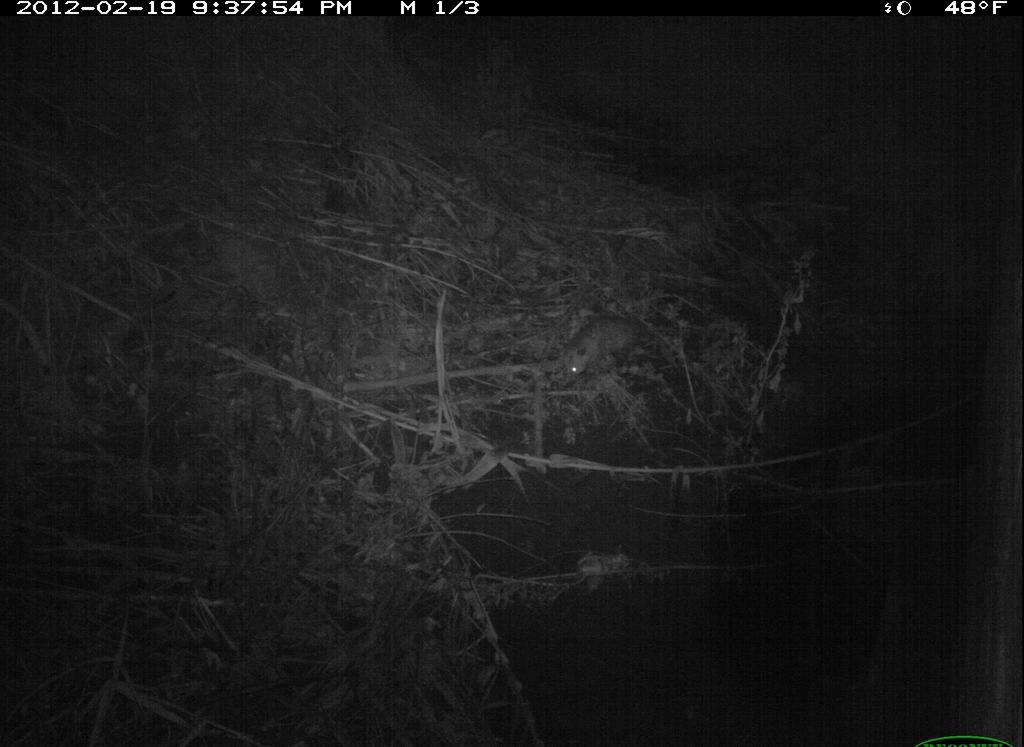opossum: (542, 309, 689, 399)
